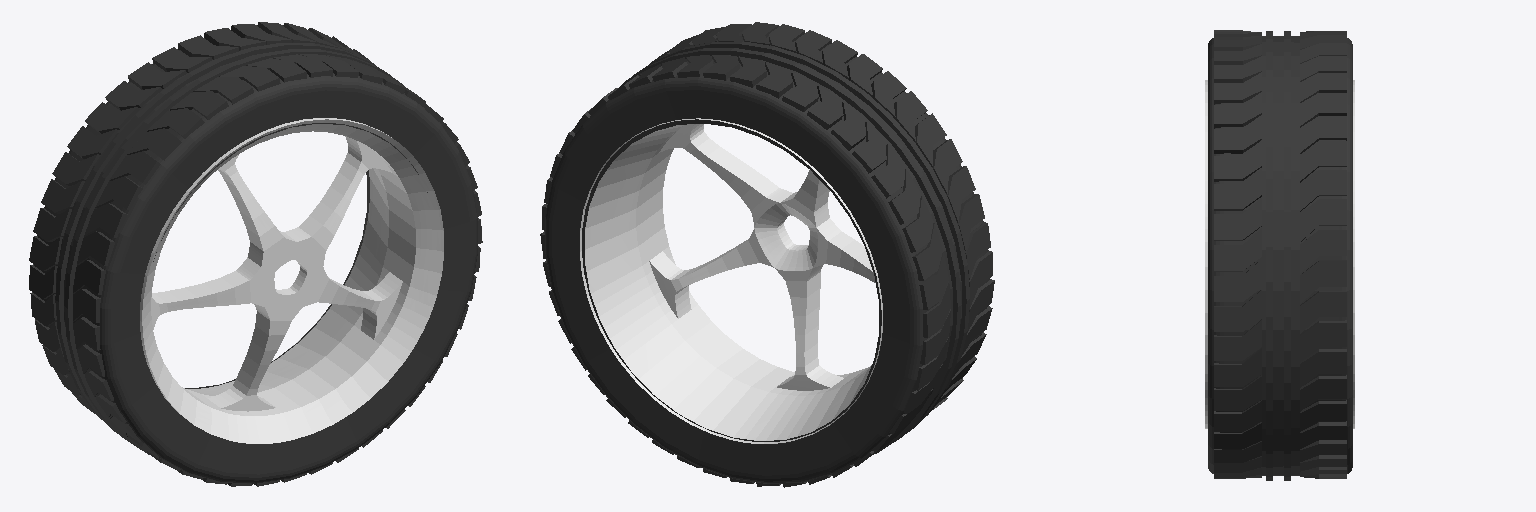
Rendered from Patt05.obj.
3 renders of one model, left to right at view 1: azimuth 30°, elevation 25°; view 2: azimuth 150°, elevation 25°; view 3: azimuth 270°, elevation 25°, orthographic.
Parts seen in each view (by area): view 1: Line05, Line01, Circle03, Circle02, Line45, Line44, Line79, Line43, Line80, Line46, Line78, Line77 (+22 smaller); view 2: Line05, Line01, Circle03, Circle02, Line79, Line78, Line80, Line77, Line76, Line81, Line75, Line46 (+22 smaller); view 3: Line01, Circle02, Circle03, Line05, Line32, Line31, Line33, Line93, Line91, Line30, Line29, Line94 (+27 smaller).
Boxes of the visible parts, x1,y1,x2,y2 form: Line05: [140, 118, 443, 443]; Line01: [34, 49, 477, 483]; Circle03: [55, 43, 390, 433]; Circle02: [64, 49, 403, 454]; Line45: [110, 151, 160, 184]; Line44: [127, 128, 181, 160]; Line79: [85, 102, 139, 133]; Line43: [147, 108, 204, 138]; Line80: [105, 81, 162, 110]; Line46: [95, 176, 142, 210]; Line78: [67, 126, 117, 158]; Line77: [52, 152, 100, 185]; Line05: [580, 118, 882, 443]; Line01: [545, 36, 989, 483]; Circle03: [619, 48, 961, 454]; Circle02: [633, 41, 969, 433]; Line79: [852, 121, 886, 173]; Line78: [871, 144, 904, 198]; Line80: [831, 102, 865, 150]; Line77: [888, 169, 920, 224]; Line76: [902, 196, 933, 252]; Line81: [807, 85, 843, 129]; Line75: [912, 223, 942, 280]; Line46: [932, 139, 962, 193]; Line01: [1208, 36, 1352, 475]; Circle02: [1266, 31, 1272, 480]; Circle03: [1284, 31, 1290, 480]; Line05: [1205, 80, 1354, 428]; Line32: [1214, 198, 1261, 240]; Line31: [1214, 228, 1261, 271]; Line33: [1214, 168, 1261, 210]; Line93: [1300, 260, 1346, 303]; Line91: [1300, 199, 1346, 241]; Line30: [1214, 259, 1261, 301]; Line29: [1214, 290, 1261, 331]; Line94: [1300, 291, 1346, 333].
Size of the model in its own units: 1.01 by 1.01 by 0.3367.